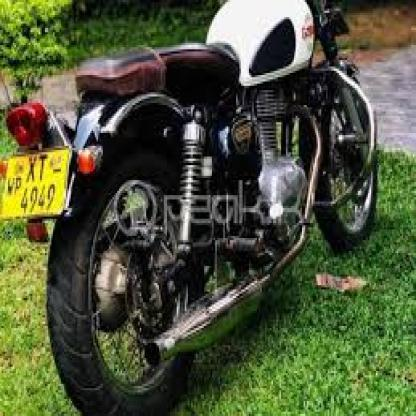bike back: (0, 1, 382, 416)
number plate: (5, 154, 64, 215)
